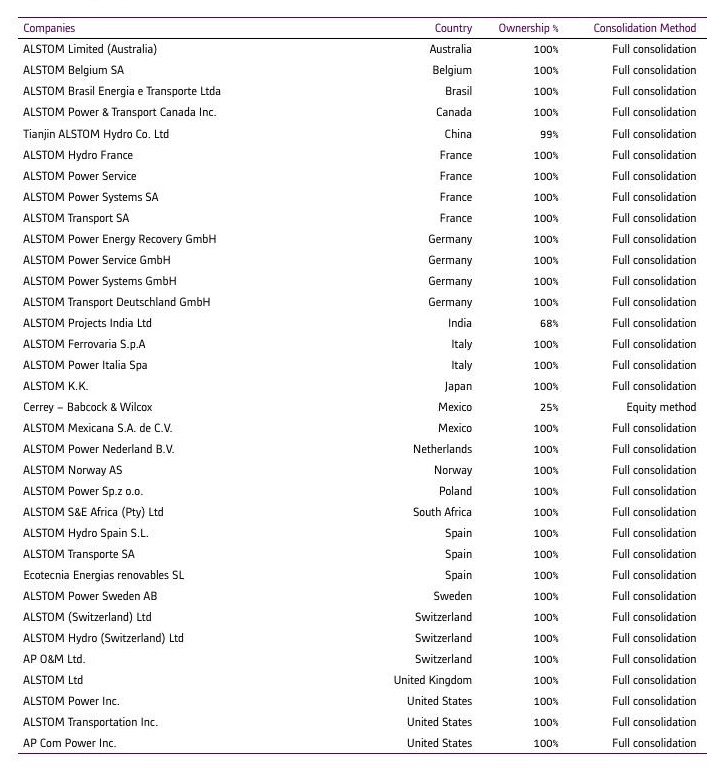table: (0, 0, 721, 768)
